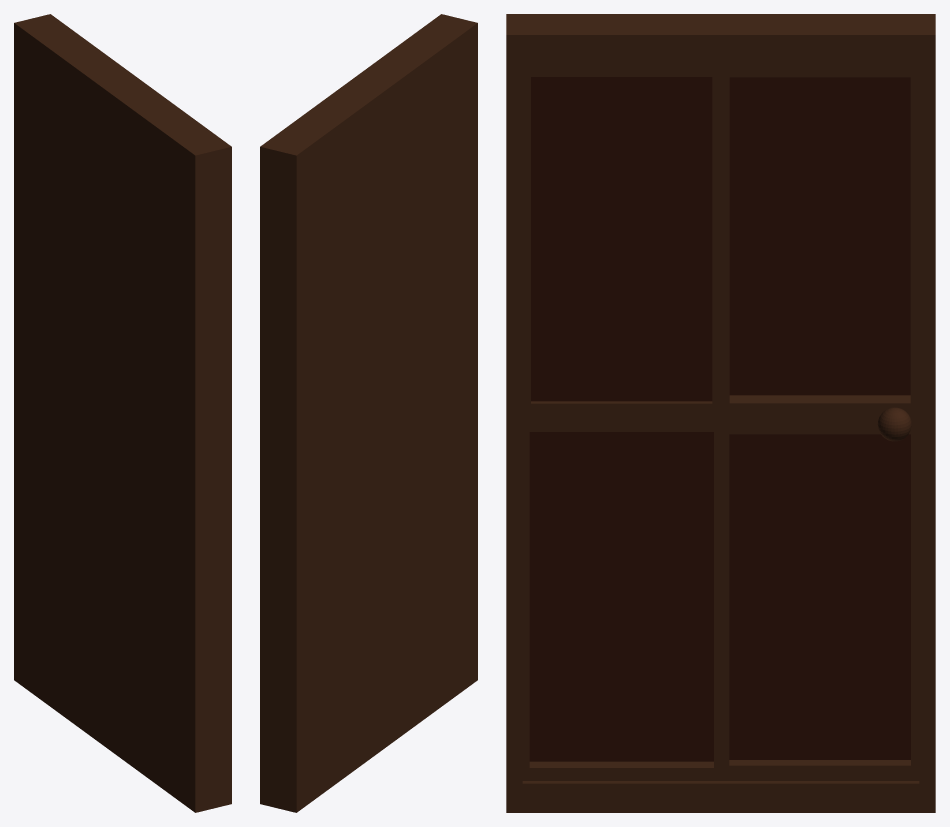
The model's file is Orphanage_Door.fbx.
3 views of the same model, side by side, from view 1: azimuth 30°, elevation 25°; view 2: azimuth 150°, elevation 25°; view 3: azimuth 270°, elevation 25° (orthographic). The views are drawn at different scales.
Visible parts, largest first — view 1: Cube; view 2: Cube; view 3: Cube.
Part boxes in pixels (x1=…): Cube: x1=14, y1=14, x2=231, y2=812; Cube: x1=260, y1=14, x2=477, y2=812; Cube: x1=506, y1=14, x2=935, y2=812.
Size of the model in its own units: 31.66 by 400 by 200.
